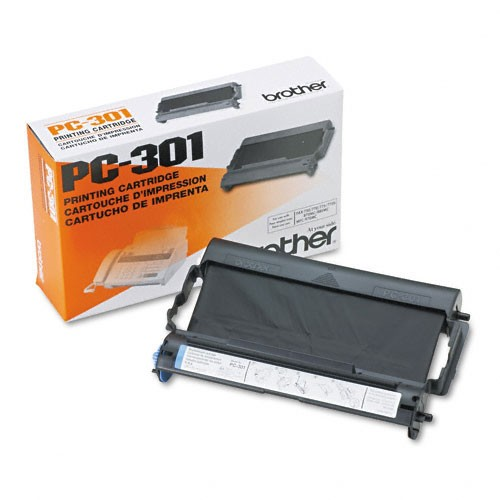Nonrec_Other: (145, 227, 476, 439)
Rec_Paper: (14, 56, 360, 321)
